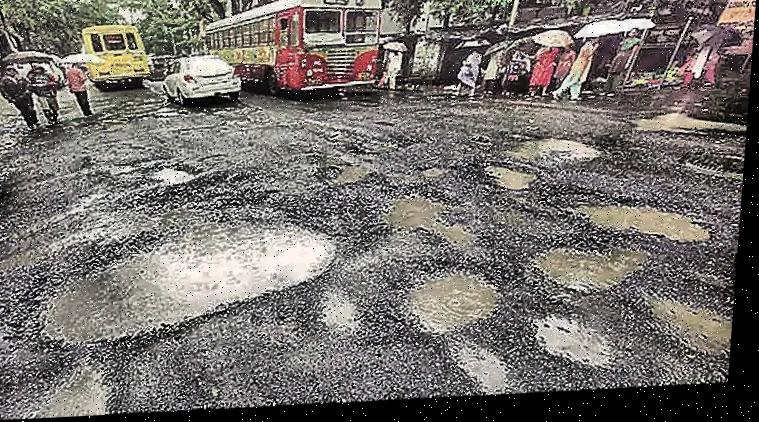pothole: (36, 214, 343, 353), (519, 310, 634, 382), (526, 244, 657, 304), (404, 271, 511, 343), (642, 292, 740, 367), (576, 206, 719, 254), (375, 189, 477, 255), (42, 362, 125, 419), (628, 114, 751, 148), (501, 138, 607, 177), (451, 346, 523, 403), (479, 162, 539, 201), (328, 166, 379, 190), (150, 165, 196, 188)
